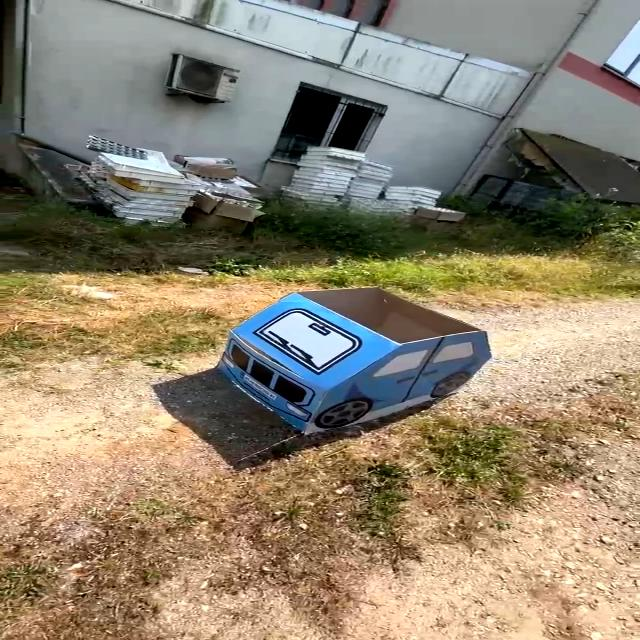blue_car: (199, 271, 512, 464)
